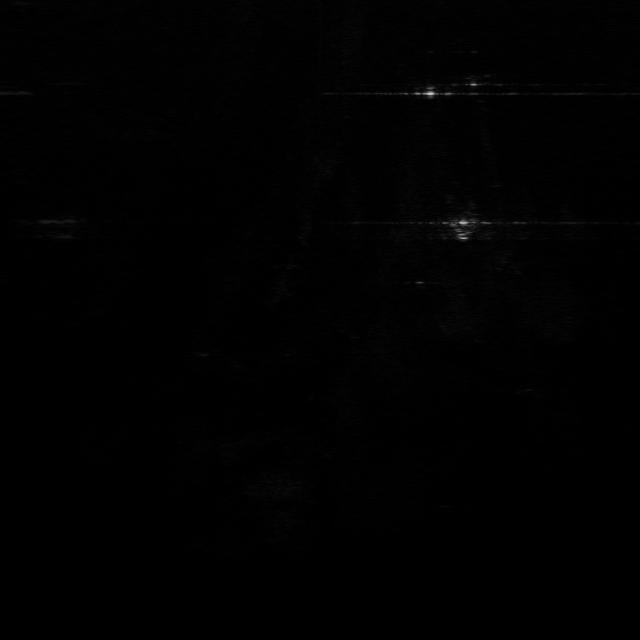rov: (443, 214, 483, 242)
